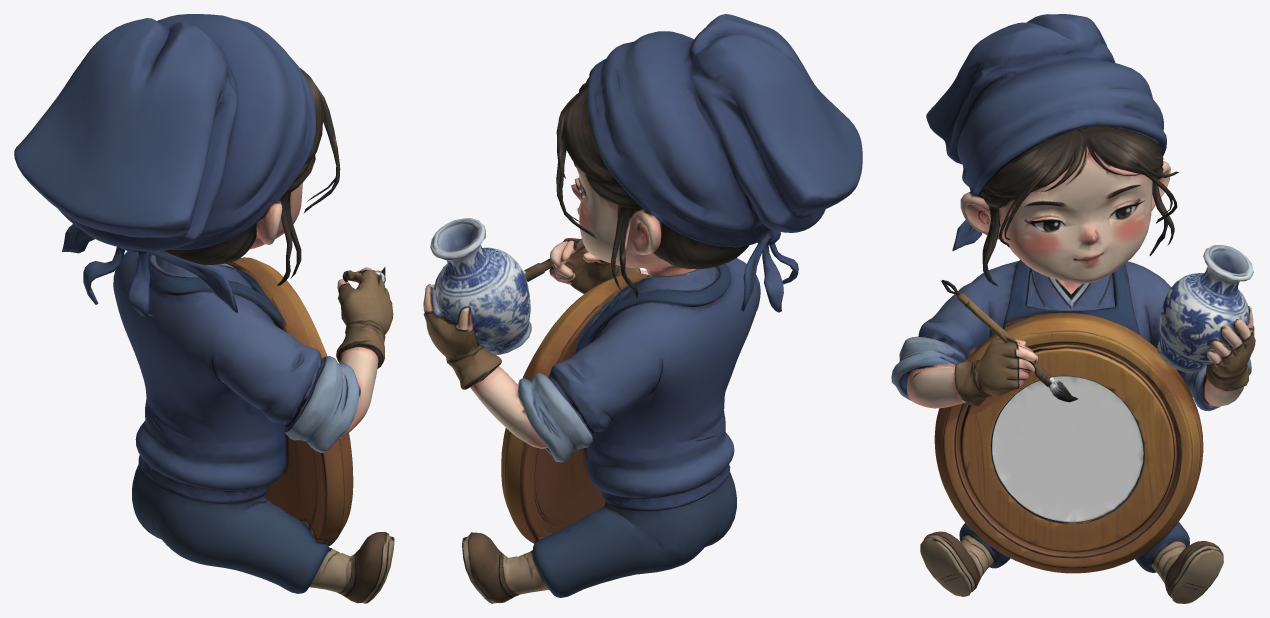
The model's file is n_w14_yuan_porcelain.glb.
3 views of the same model, side by side, from view 1: azimuth 30°, elevation 25°; view 2: azimuth 150°, elevation 25°; view 3: azimuth 270°, elevation 25° (orthographic). The views are drawn at different scales.
Visible parts, largest first — view 1: tripo_node_e1c63b7d-f53b-45fa-8f9b-5df03bd92dfa; view 2: tripo_node_e1c63b7d-f53b-45fa-8f9b-5df03bd92dfa; view 3: tripo_node_e1c63b7d-f53b-45fa-8f9b-5df03bd92dfa.
Boxes of the visible parts, <box> form: tripo_node_e1c63b7d-f53b-45fa-8f9b-5df03bd92dfa: <box>14,14,394,603</box>; tripo_node_e1c63b7d-f53b-45fa-8f9b-5df03bd92dfa: <box>423,14,862,603</box>; tripo_node_e1c63b7d-f53b-45fa-8f9b-5df03bd92dfa: <box>891,14,1255,603</box>.
Bounding box in the file's own units: 0.643 × 0.9811 × 0.6317.
1 material, 1 textured.
